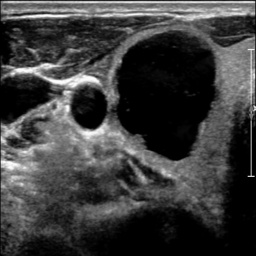mass: (113, 29, 219, 163)
